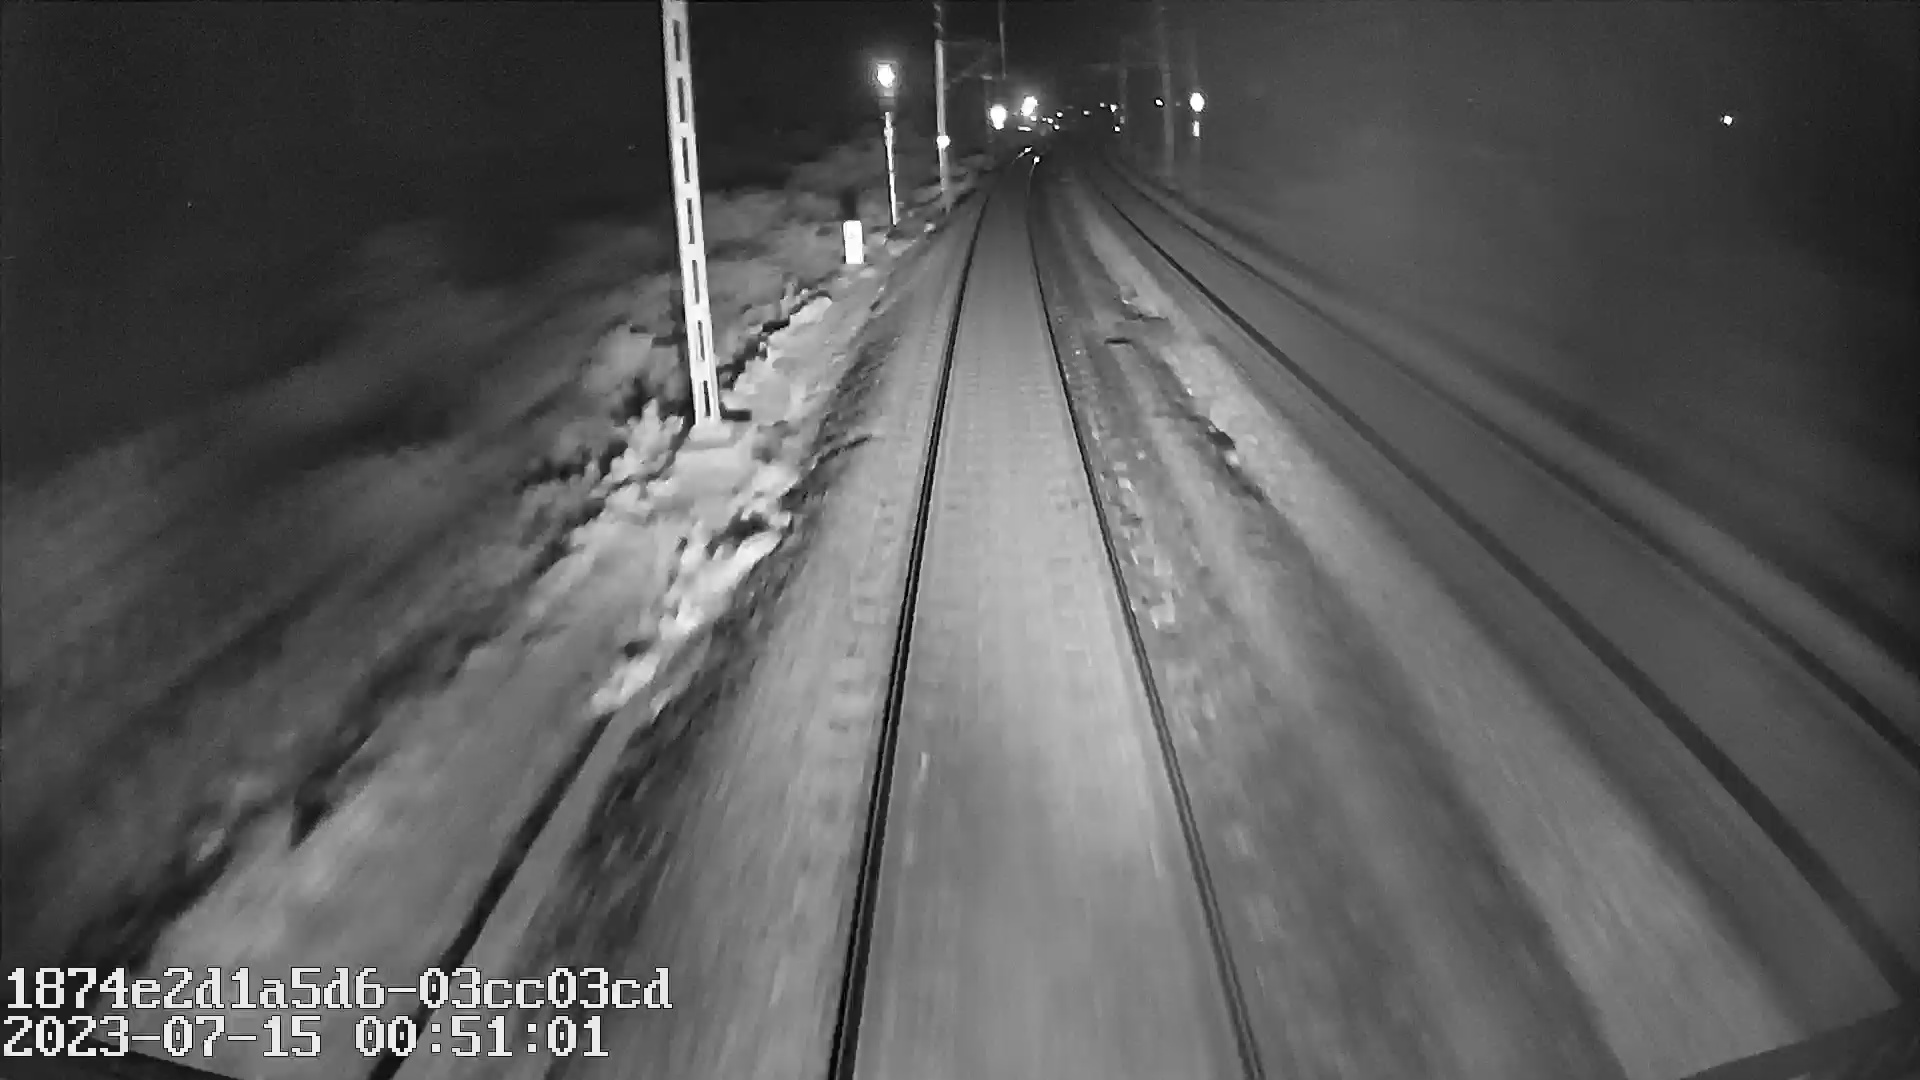track1: (842, 216, 1252, 1059)
track2: (1106, 193, 1908, 875)
